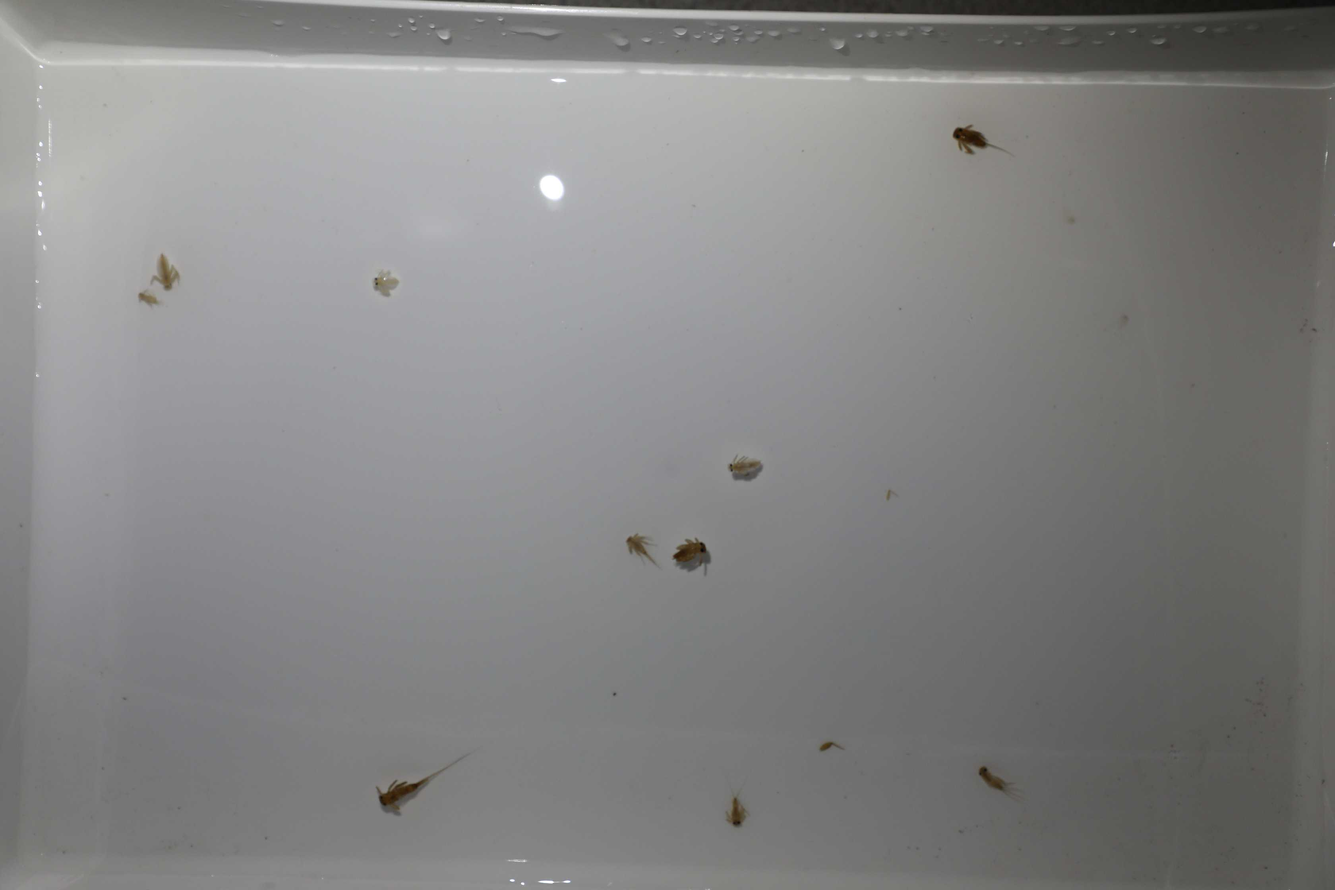Mayfly: (376, 743, 477, 812), (948, 121, 1012, 168), (976, 760, 1022, 811), (667, 533, 712, 575), (623, 530, 664, 573), (147, 251, 185, 292), (717, 793, 755, 832), (718, 457, 768, 484), (368, 271, 403, 302), (130, 287, 162, 309)
